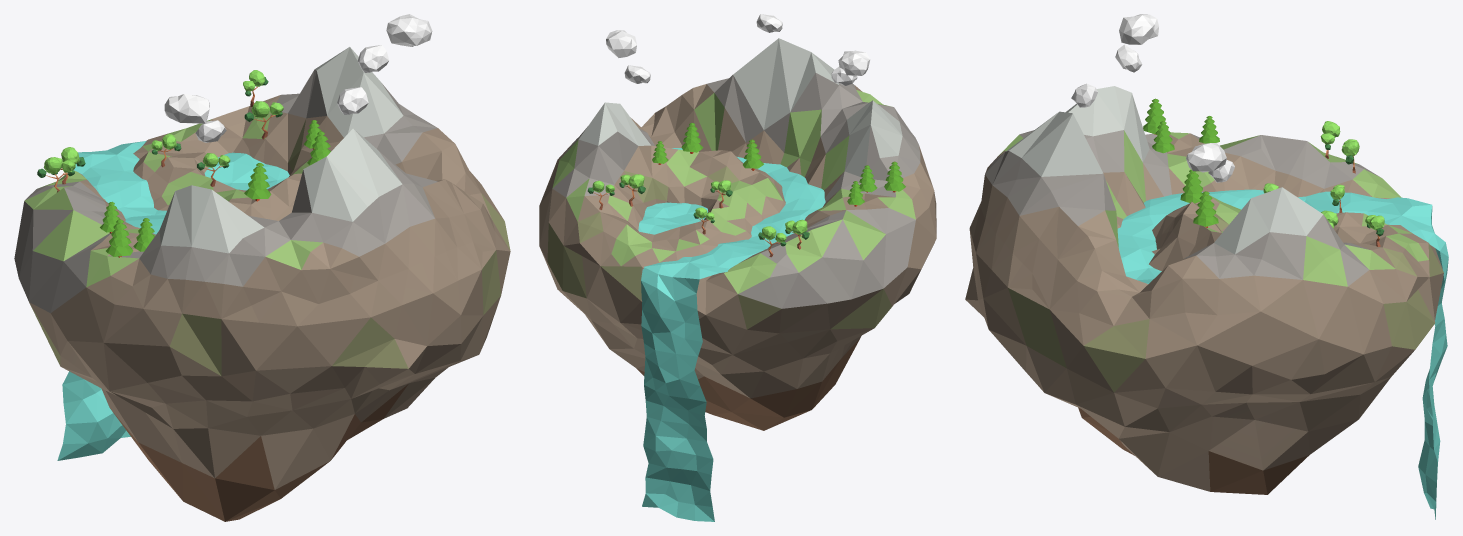
The model's file is low_poly_island.glb.
3 views of the same model, side by side, from view 1: azimuth 30°, elevation 25°; view 2: azimuth 150°, elevation 25°; view 3: azimuth 270°, elevation 25° (orthographic). The views are drawn at different scales.
Visible parts, largest first — view 1: Icosphere, Plane, Icosphere.001, Icosphere.002, Plane.001, Plane.006, Cube.003, Cube; view 2: Icosphere, Plane, Icosphere.001, Icosphere.002; view 3: Icosphere, Plane, Icosphere.001, Icosphere.002, Plane.004.
Boxes of the visible parts, x1,y1,x2,y2 form: Icosphere: [14, 47, 510, 521]; Plane: [57, 141, 289, 460]; Icosphere.001: [337, 14, 432, 114]; Icosphere.002: [164, 94, 226, 142]; Plane.001: [106, 219, 132, 257]; Plane.006: [244, 163, 271, 201]; Cube.003: [244, 101, 283, 139]; Cube: [37, 157, 75, 192]; Icosphere: [539, 38, 936, 430]; Plane: [638, 148, 825, 521]; Icosphere.001: [606, 14, 782, 83]; Icosphere.002: [831, 50, 870, 85]; Icosphere: [965, 86, 1443, 494]; Plane: [1117, 189, 1448, 519]; Icosphere.001: [1071, 83, 1234, 182]; Icosphere.002: [1115, 14, 1158, 72]; Plane.004: [1193, 191, 1218, 227].
Bounding box in the file's own units: 1897 × 2077 × 1976.
